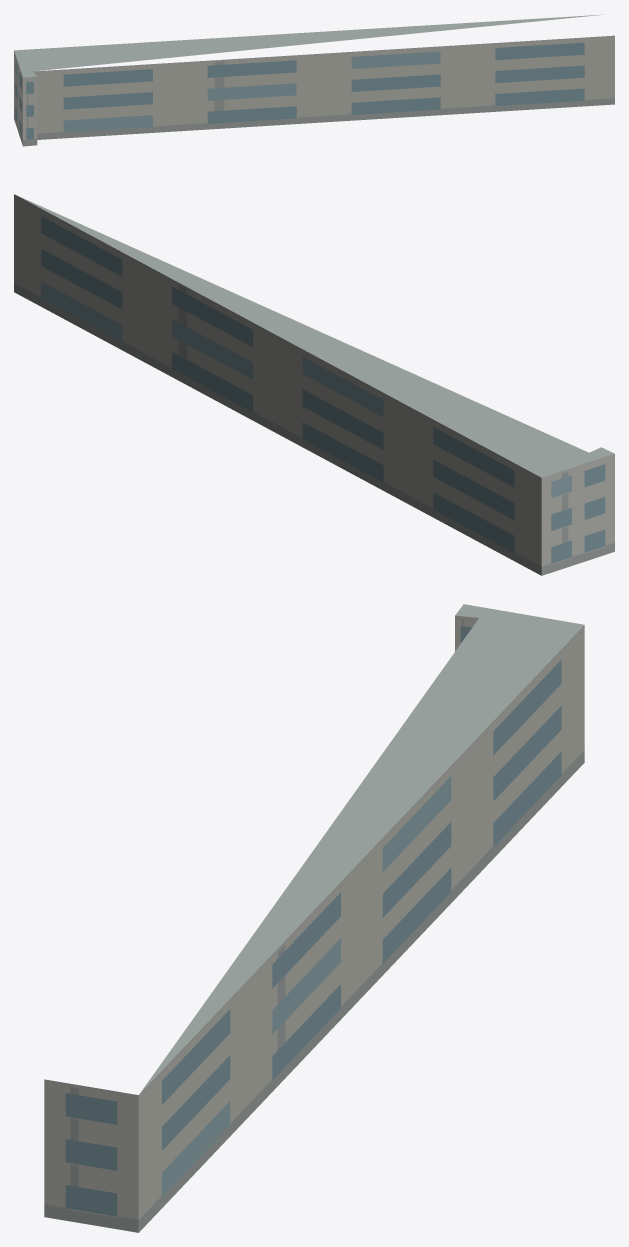
File: survey-upis-32503797.glb
3 renders of one model, top to bottom at view 1: azimuth 30°, elevation 25°; view 2: azimuth 150°, elevation 25°; view 3: azimuth 270°, elevation 25°, orthographic. The views are drawn at different scales.
Visible parts, largest first — view 1: survey-upis-32503797.tmp; view 2: survey-upis-32503797.tmp; view 3: survey-upis-32503797.tmp.
Part boxes in pixels (bbox=[...]): survey-upis-32503797.tmp: bbox=[14, 14, 614, 146]; survey-upis-32503797.tmp: bbox=[14, 194, 614, 575]; survey-upis-32503797.tmp: bbox=[44, 604, 584, 1232].
Bounding box in the file's own units: 69.97 × 9.15 × 32.55.
